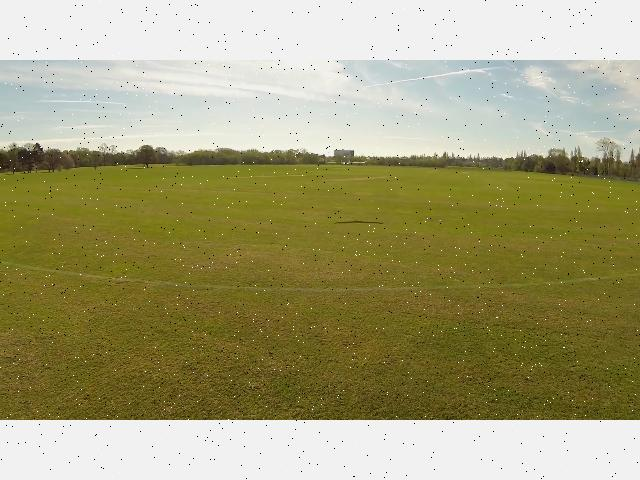Anti-Drone: (316, 151, 378, 171)
